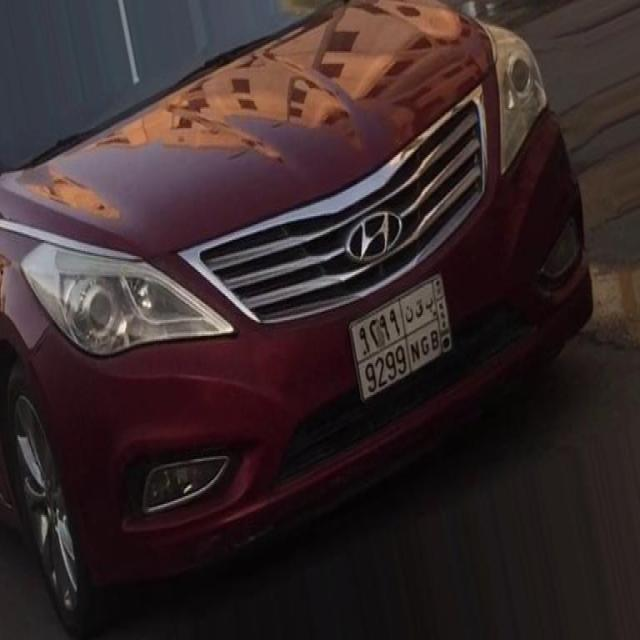Car-plate: (334, 250, 463, 435)
